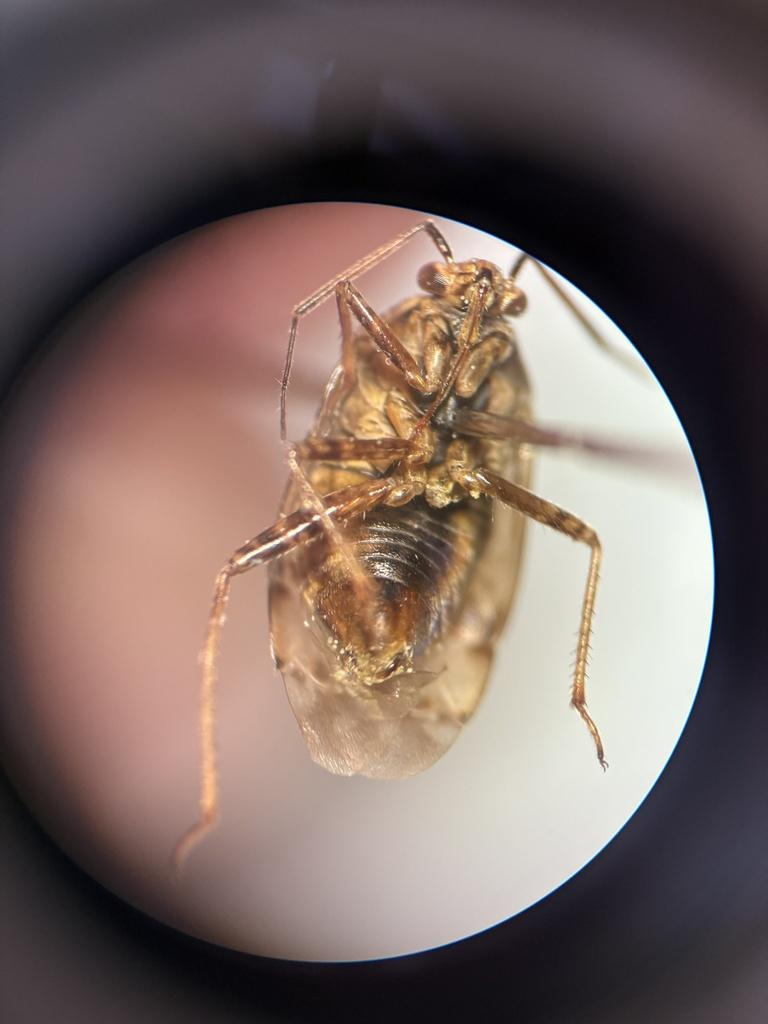plant_bugs: (108, 148, 739, 947)
